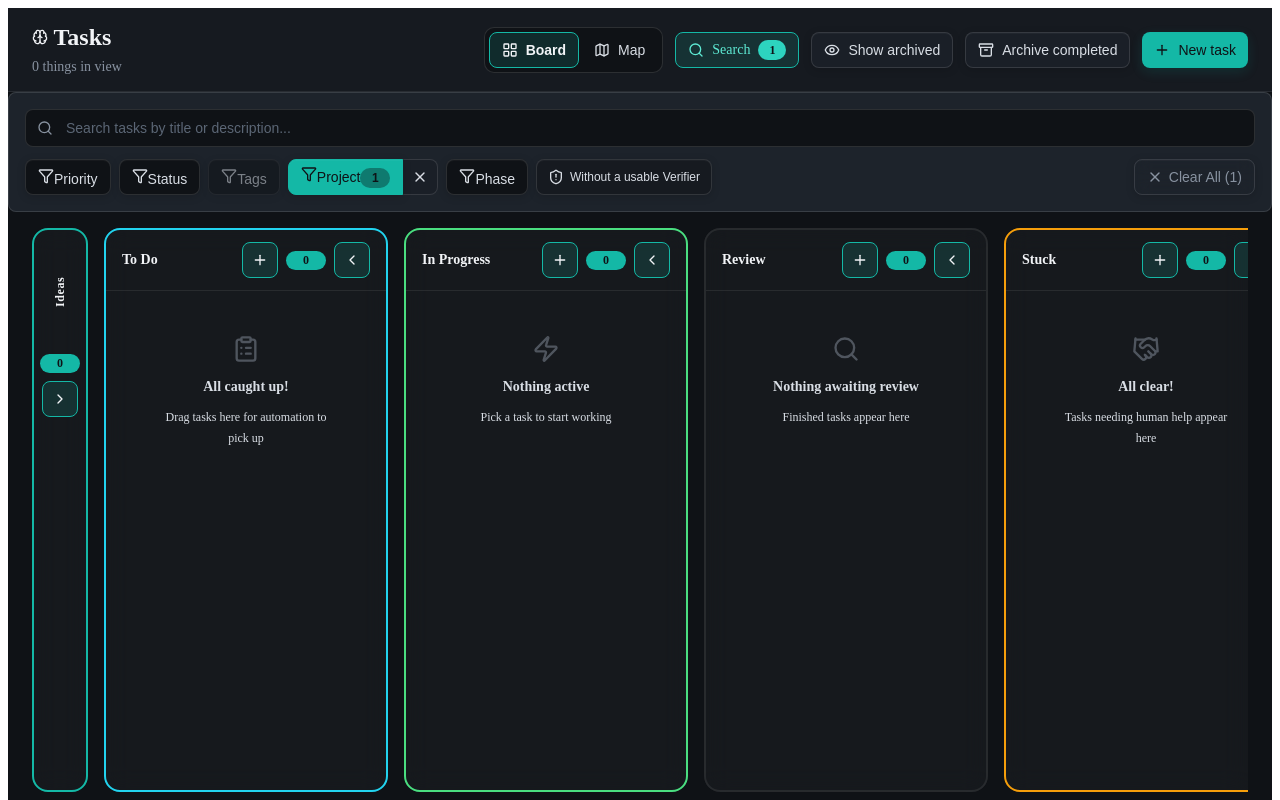
Test: a Project change clears a Phase of another Project › the Phase dropdown on the board lists only the selected Project’s Phases
Click the button "Phase" at (487, 177), box [446, 159, 528, 195]
Wait 20 ms
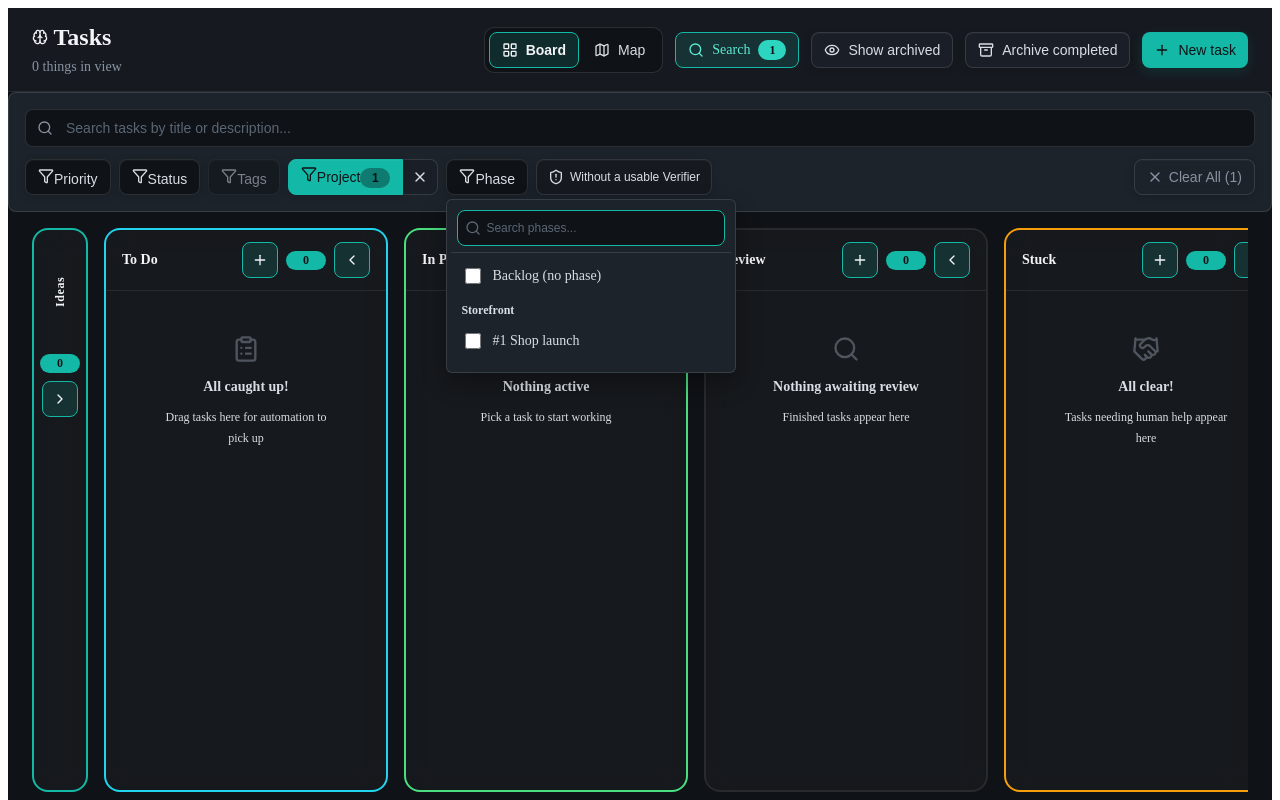
Check: the element "Storefront" is shown, box [461, 303, 580, 349]
Check: the checkbox labelled "#1 Shop launch" is shown, box [465, 333, 481, 349]
